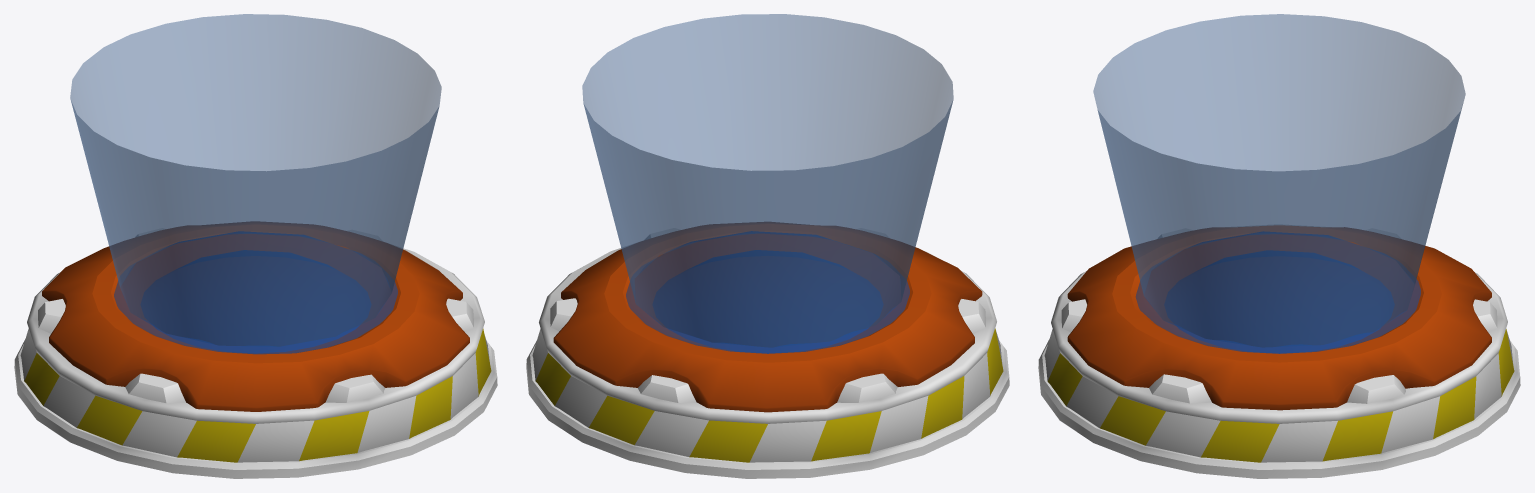
The model's file is ChEteleport.FBX.
3 views of the same model, side by side, from view 1: azimuth 30°, elevation 25°; view 2: azimuth 150°, elevation 25°; view 3: azimuth 270°, elevation 25° (orthographic).
Visible parts, largest first — view 1: ChEteleport, ChEteleport_light; view 2: ChEteleport, ChEteleport_light; view 3: ChEteleport, ChEteleport_light.
Part boxes in pixels (left/top/right/bottom): ChEteleport: left=14, top=221, right=497, bottom=478; ChEteleport_light: left=70, top=14, right=441, bottom=346; ChEteleport: left=526, top=222, right=1009, bottom=478; ChEteleport_light: left=582, top=14, right=953, bottom=347; ChEteleport: left=1038, top=224, right=1520, bottom=478; ChEteleport_light: left=1093, top=14, right=1465, bottom=347.
Size of the model in its own units: 2.86 by 1.86 by 2.86.
